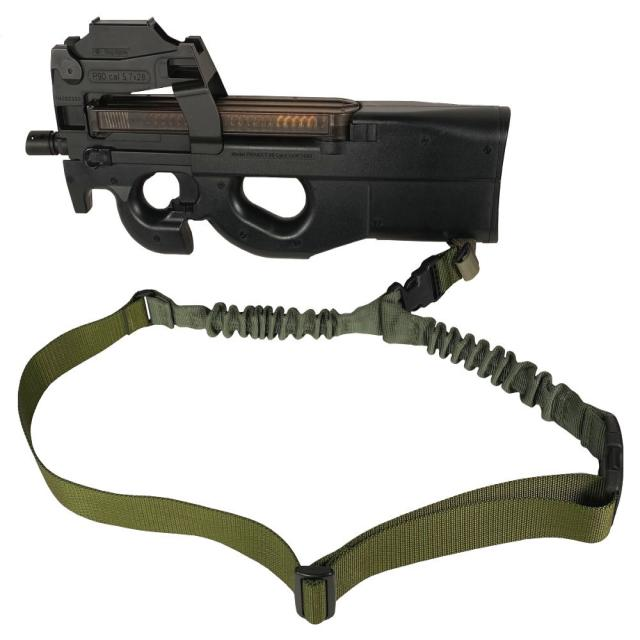SMG: (24, 18, 512, 262)
